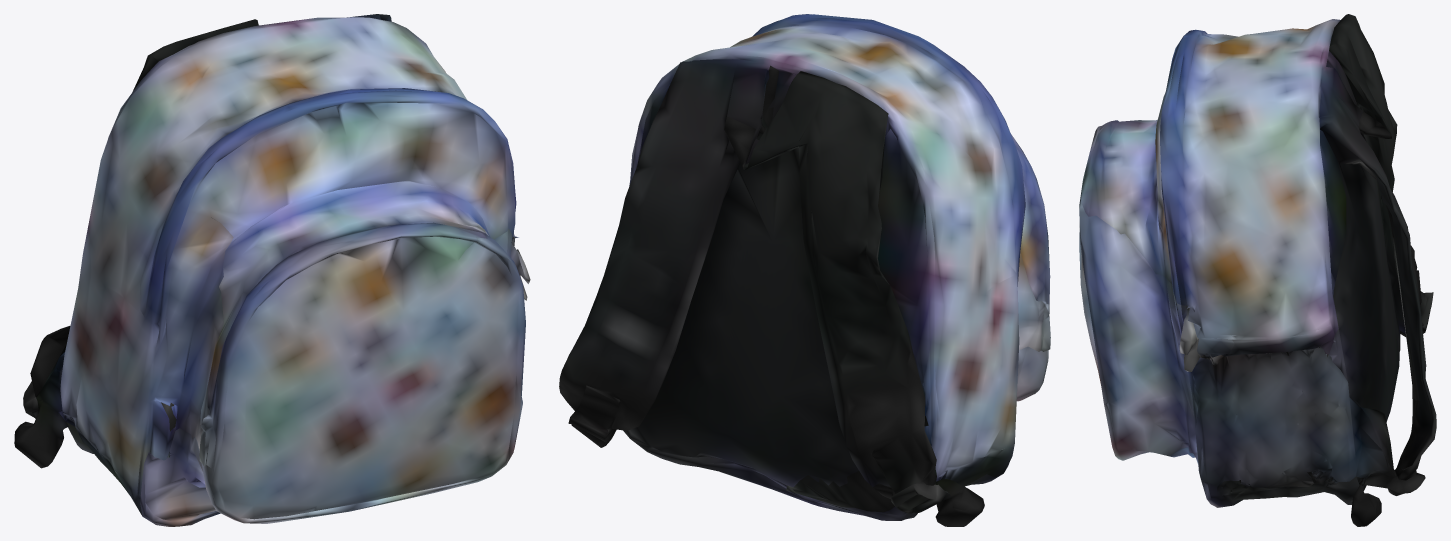
The model's file is Olive_Kids_Game_On_Pack_n_Snack-medium.glb.
3 renders of one model, left to right at view 1: azimuth 30°, elevation 25°; view 2: azimuth 150°, elevation 25°; view 3: azimuth 270°, elevation 25°, orthographic. The views are drawn at different scales.
Visible parts, largest first — view 1: Olive_Kids_Game_On_Pack_n_Snack; view 2: Olive_Kids_Game_On_Pack_n_Snack; view 3: Olive_Kids_Game_On_Pack_n_Snack.
Boxes of the visible parts, x1,y1,x2,y2 form: Olive_Kids_Game_On_Pack_n_Snack: (14,14,530,526); Olive_Kids_Game_On_Pack_n_Snack: (559,14,1050,526); Olive_Kids_Game_On_Pack_n_Snack: (1079,14,1436,526).
Size of the model in its own units: 0.3299 by 0.3143 by 0.2533.
Materials: 1 (1 with a texture image).
